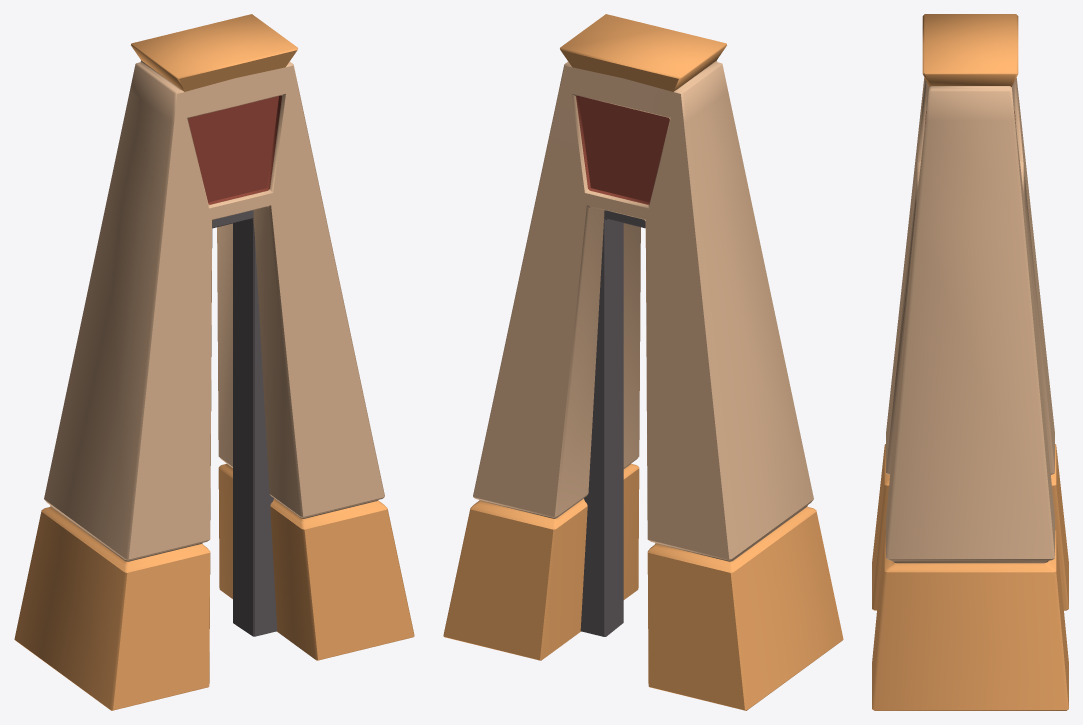
Rendered from BDoor.fbx.
3 renders of one model, left to right at view 1: azimuth 30°, elevation 25°; view 2: azimuth 150°, elevation 25°; view 3: azimuth 270°, elevation 25°, orthographic.
Parts seen in each view (by area): view 1: BDoor_body, BDoor_base, BDoor_Inner, BDoor_topper; view 2: BDoor_body, BDoor_base, BDoor_Inner, BDoor_topper; view 3: BDoor_body, BDoor_base, BDoor_topper.
Boxes of the visible parts, x1,y1,x2,y2 form: BDoor_body: [44, 48, 384, 561]; BDoor_base: [14, 464, 414, 710]; BDoor_Inner: [212, 210, 277, 636]; BDoor_topper: [131, 14, 297, 91]; BDoor_body: [473, 60, 813, 561]; BDoor_base: [443, 464, 843, 710]; BDoor_Inner: [580, 210, 645, 636]; BDoor_topper: [560, 14, 726, 91]; BDoor_body: [886, 73, 1054, 563]; BDoor_base: [872, 444, 1068, 710]; BDoor_topper: [922, 14, 1018, 86].
Size of the model in its own units: 1757 by 3275 by 984.
